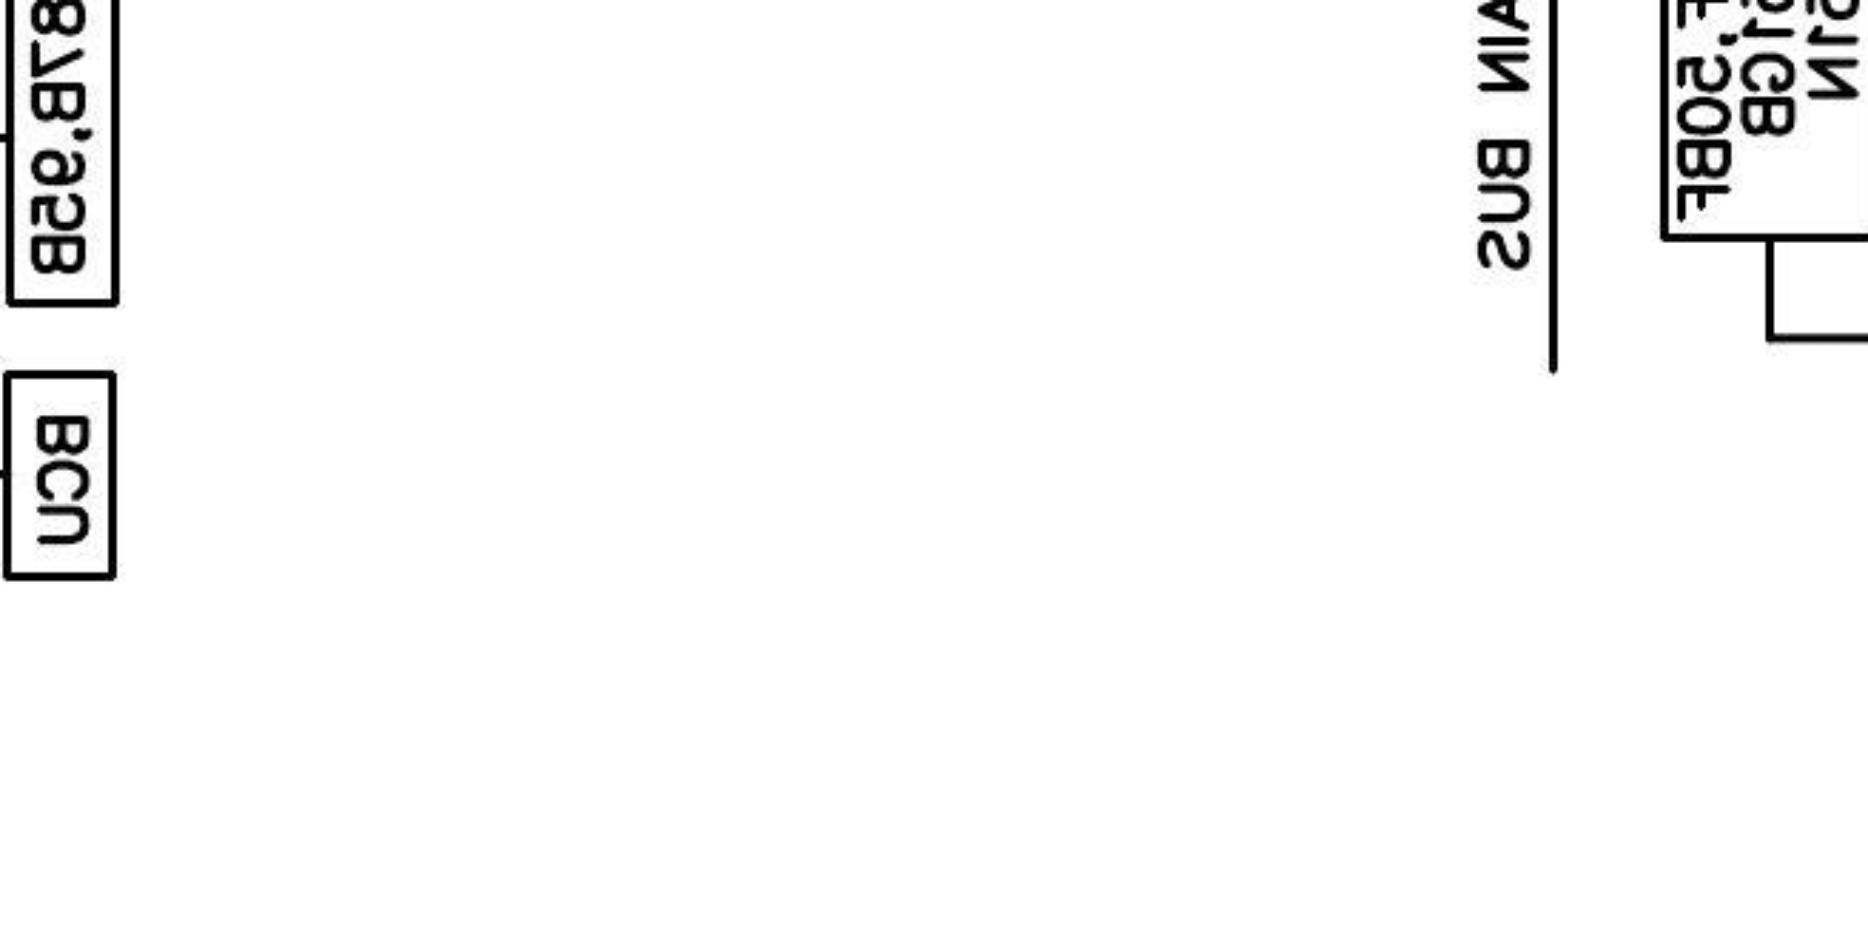BCU: (1, 368, 118, 584)
